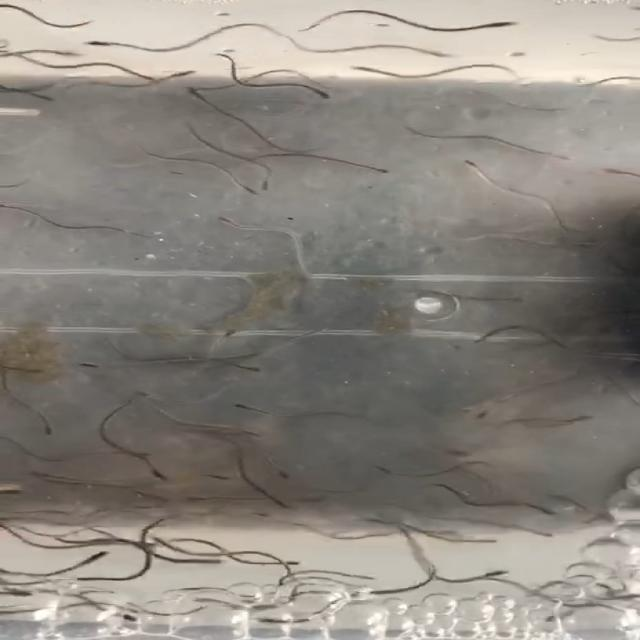active_glass_eel: (464, 11, 546, 40), (188, 205, 256, 238), (252, 163, 300, 200), (535, 141, 609, 163), (243, 611, 318, 632), (108, 607, 165, 634), (580, 164, 639, 188), (295, 78, 337, 111), (205, 172, 258, 198), (168, 83, 227, 106), (69, 31, 124, 52), (218, 386, 254, 417), (454, 153, 500, 177), (253, 495, 304, 516), (184, 552, 239, 570), (418, 47, 472, 65), (0, 85, 46, 106), (466, 80, 511, 101), (563, 409, 601, 433), (458, 322, 494, 347), (78, 546, 128, 564), (221, 427, 279, 442), (262, 460, 298, 484), (0, 195, 33, 221), (332, 64, 402, 76), (131, 535, 183, 551), (128, 395, 190, 408), (41, 534, 91, 550), (368, 158, 399, 183), (529, 611, 570, 629), (479, 563, 524, 579), (67, 358, 101, 378), (272, 557, 328, 569), (213, 325, 257, 340), (52, 46, 94, 61), (533, 502, 564, 522), (139, 469, 182, 483), (460, 408, 492, 426), (29, 471, 61, 489), (162, 66, 192, 85), (341, 572, 384, 585), (228, 366, 277, 377), (306, 524, 338, 540), (229, 349, 270, 361), (192, 468, 226, 482), (117, 446, 149, 460), (372, 464, 404, 478), (25, 422, 50, 436)
